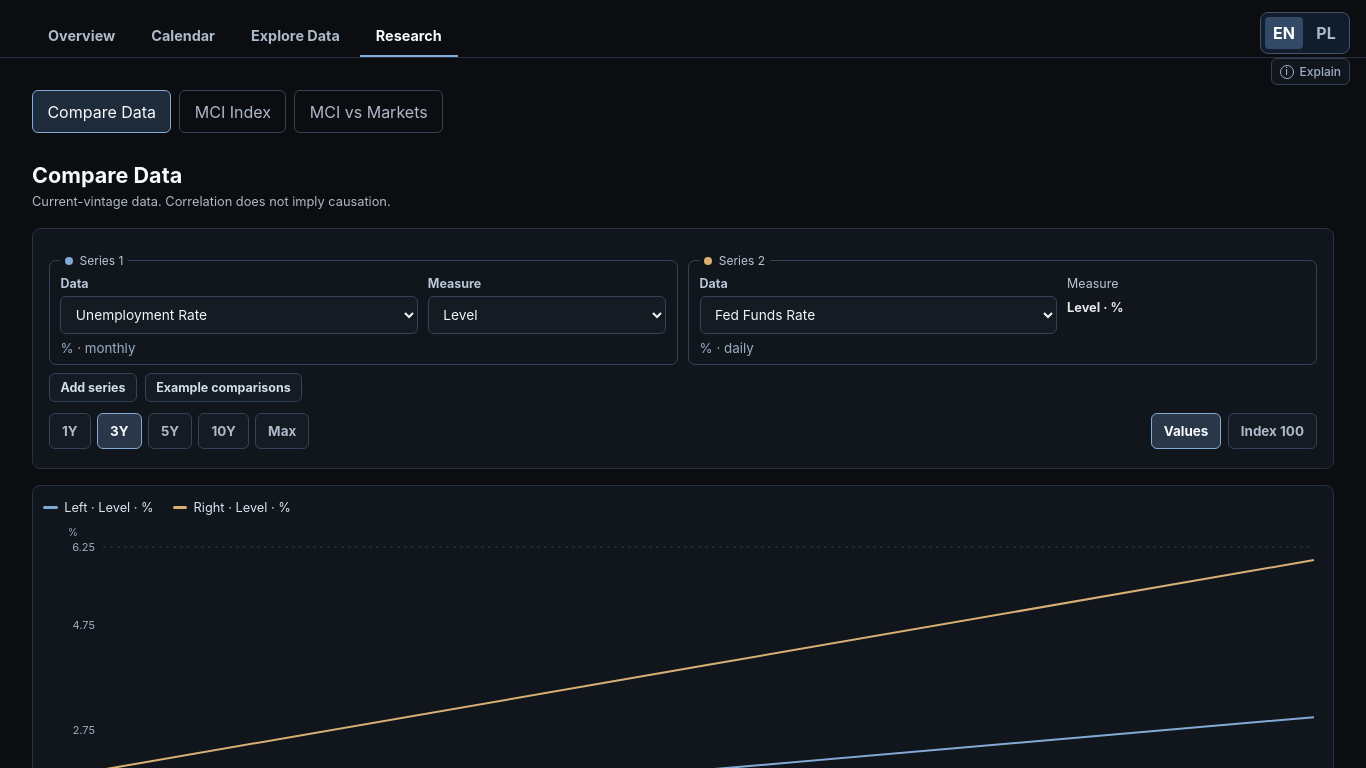
Test: scale and EN/PL changes do not reload data or change correlation samples
This screenshot has width=1366, height=768.
Click the button "Index 100": [1272, 431] box [1228,414,1317,449]
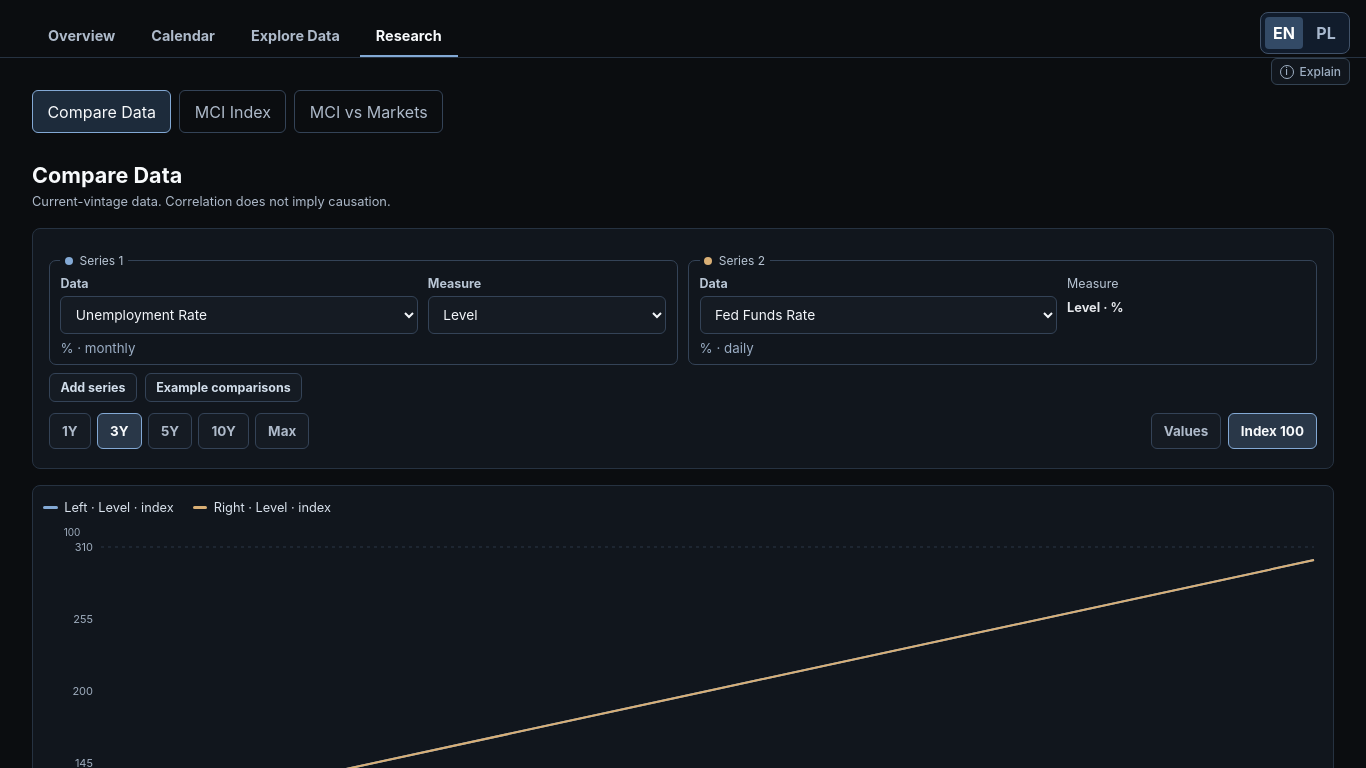
Click the button with aria-label "Polski": [1326, 33] box [1307,17,1345,49]
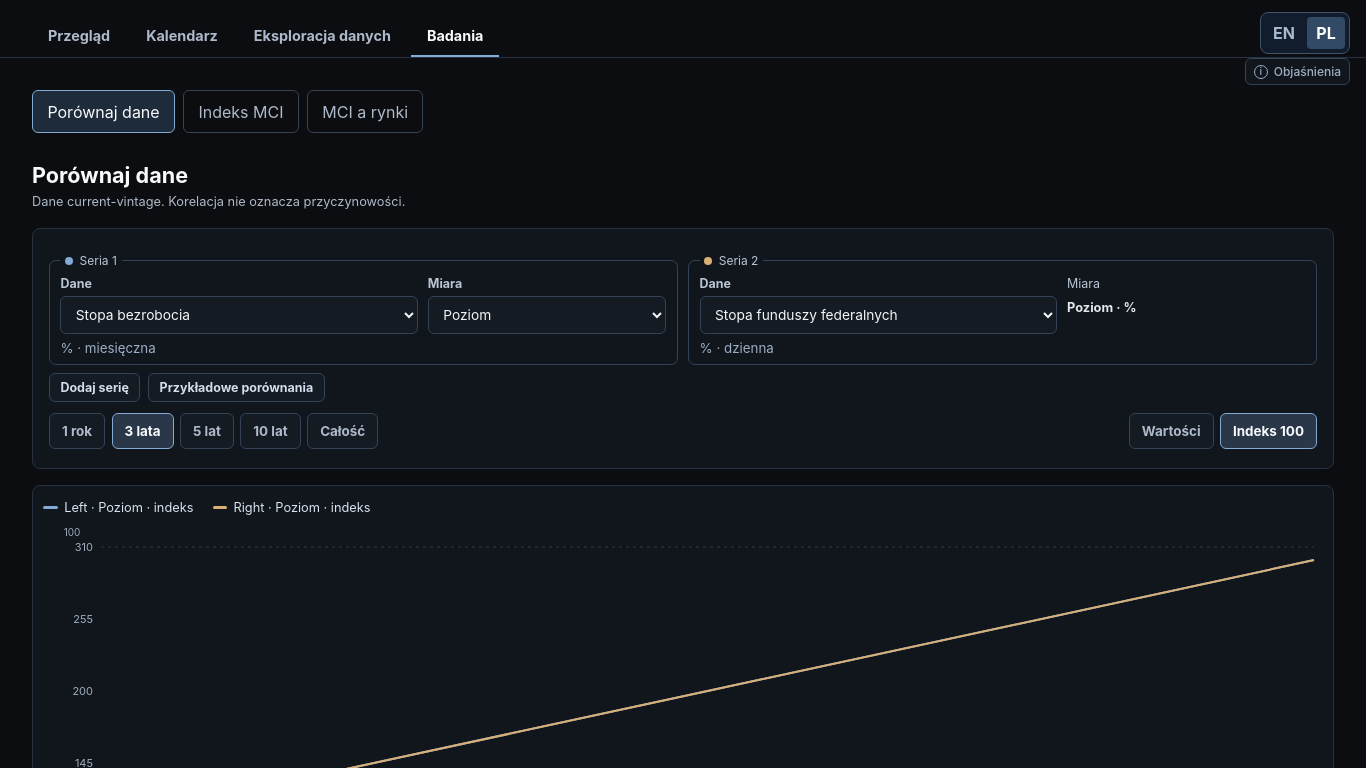
Now the dropdown named "Seria 1: miara" is shown, box [428,296,666,334]
Now the heading "Porównaj dane" is shown, box [32,162,188,188]
